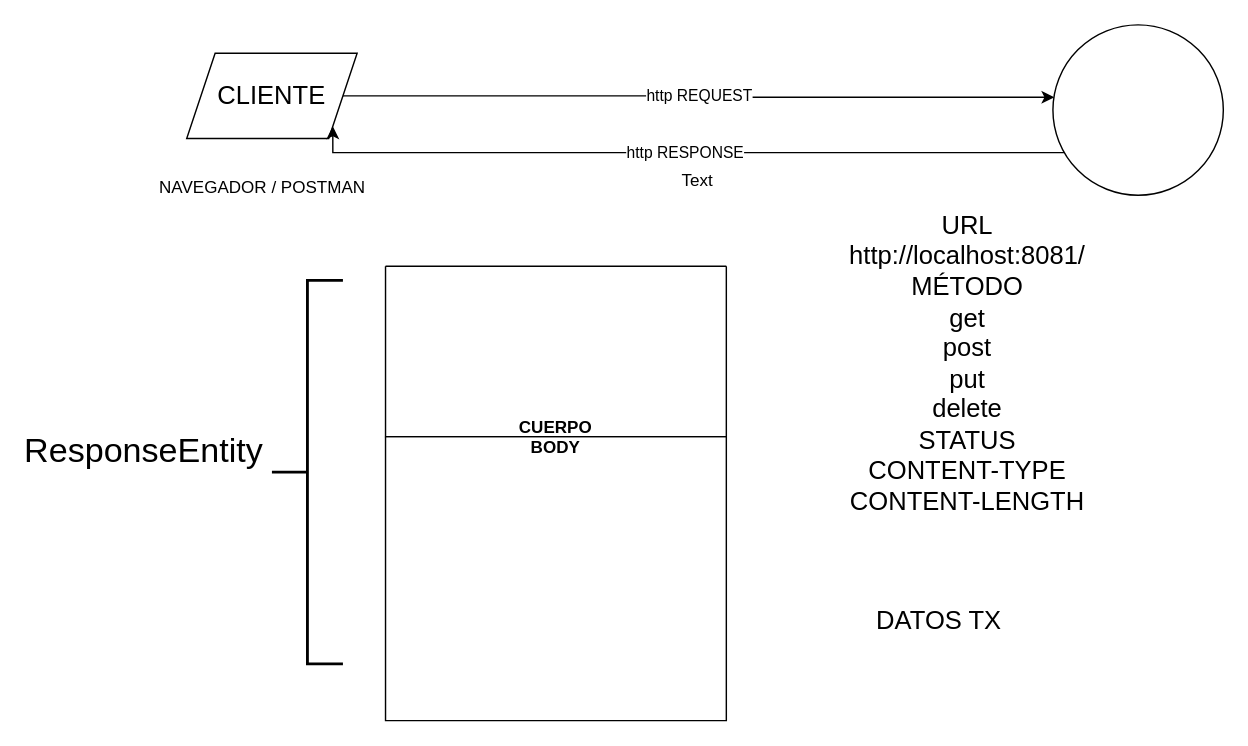
The diagram is 1248 pixels wide and 746 high, and some of its shapes have lost their labels. The centre of each missing label's shape, as x and y in pixels:
CABECERA HEADER: (555,351)
SERVIDOR: (1137,109)
